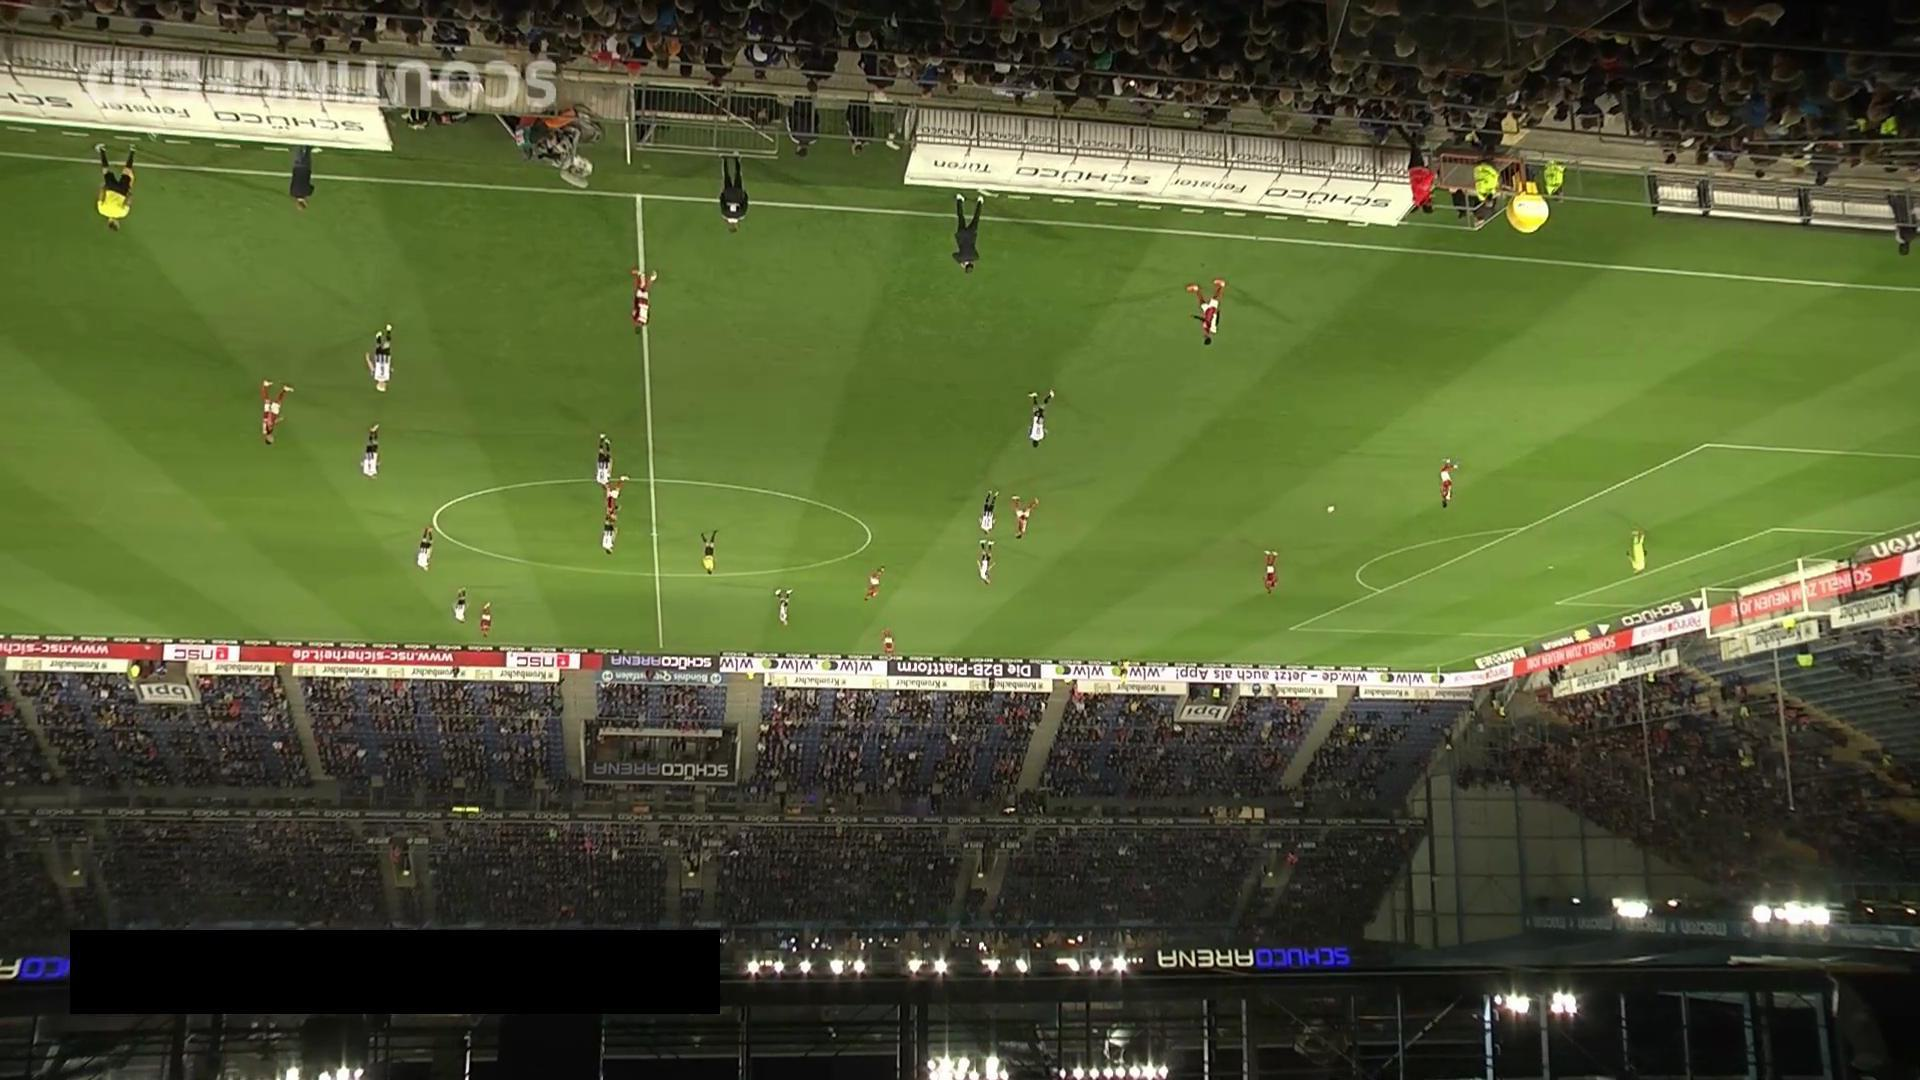ball: (1324, 503, 1337, 516)
goalkeeper: (1625, 528, 1647, 576)
player: (1185, 279, 1225, 347), (261, 380, 294, 446), (630, 269, 658, 336), (365, 326, 393, 393), (1027, 389, 1055, 449), (1011, 496, 1040, 539), (360, 423, 380, 481), (595, 433, 613, 493), (604, 476, 627, 519), (1440, 457, 1459, 509), (979, 490, 999, 537), (977, 541, 995, 587), (416, 525, 433, 572), (773, 587, 792, 628), (864, 566, 885, 602), (601, 514, 618, 556), (1263, 550, 1278, 595), (880, 626, 897, 662), (453, 587, 469, 624), (478, 601, 492, 639)
referee: (94, 143, 137, 233), (699, 530, 719, 577), (1115, 659, 1130, 690)
